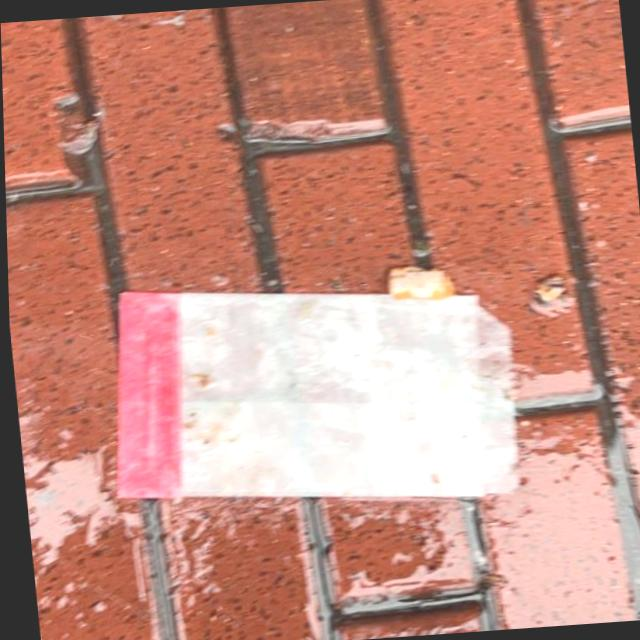Paper: (89, 261, 531, 528)
